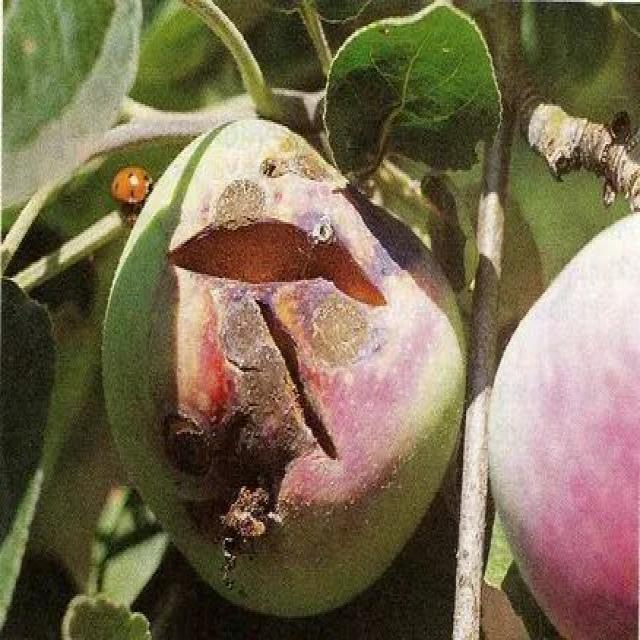Rotten: (112, 120, 462, 618)
